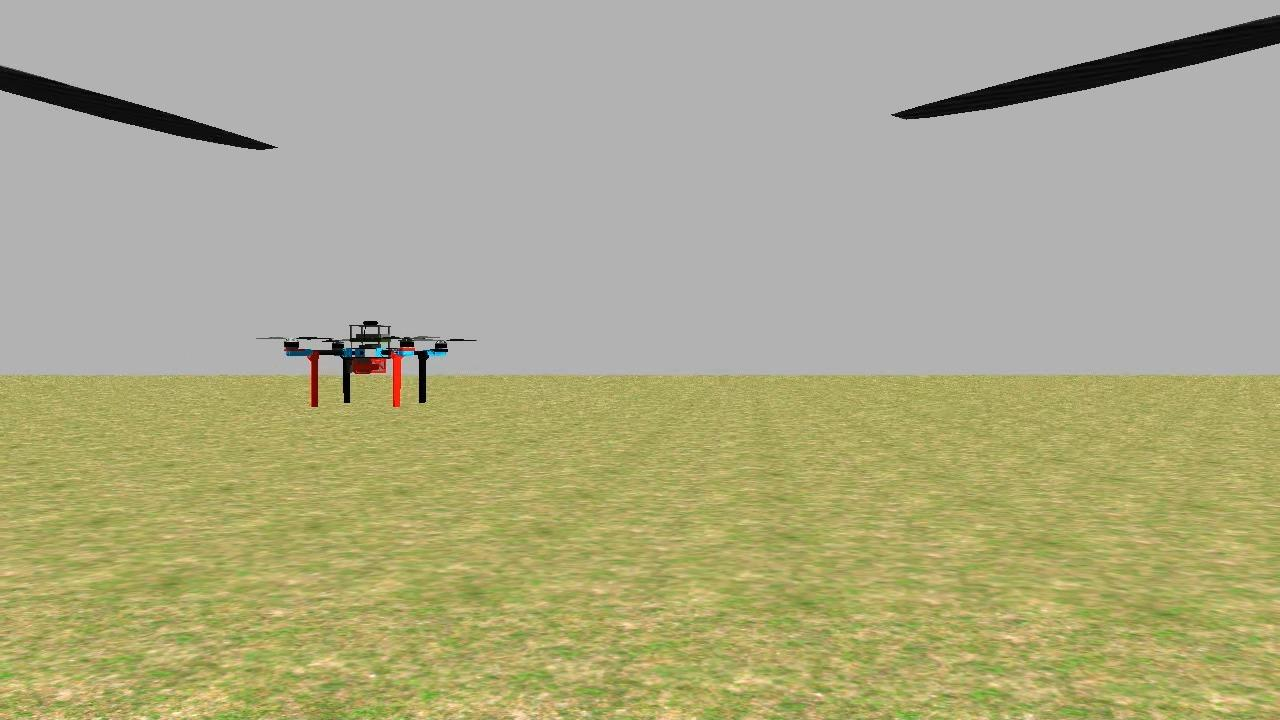UAV: (278, 307, 458, 422)
